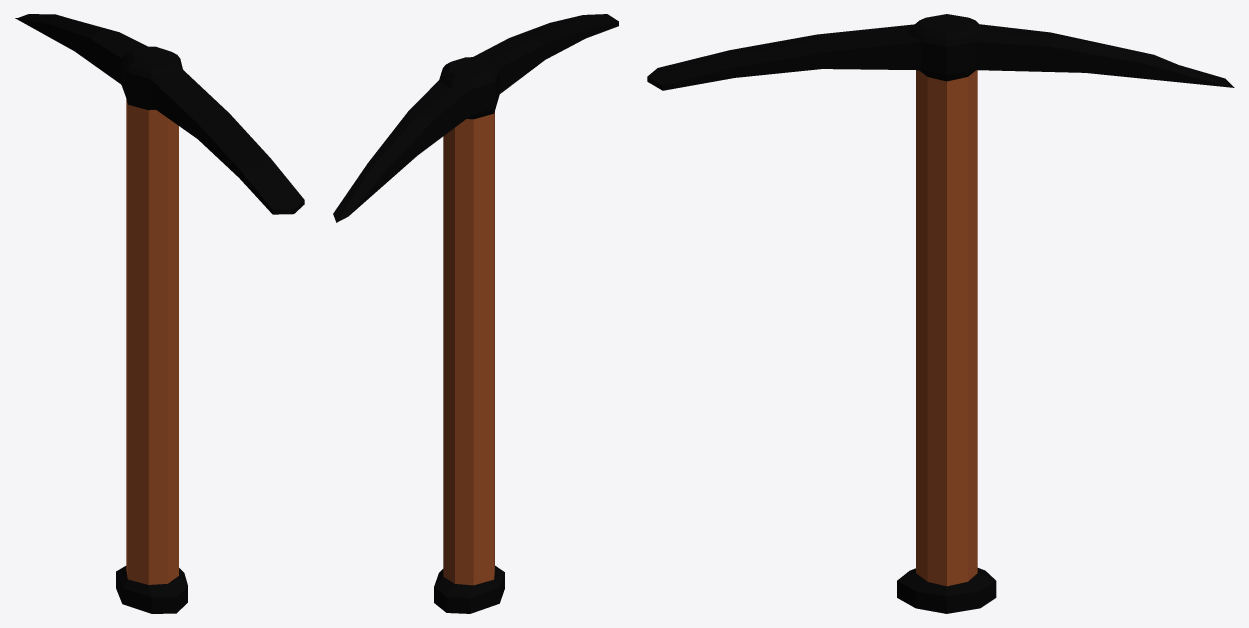
Rendered from pickaxe.fbx.
3 views of the same model, side by side, from view 1: azimuth 30°, elevation 25°; view 2: azimuth 150°, elevation 25°; view 3: azimuth 270°, elevation 25° (orthographic). The views are drawn at different scales.
Visible parts, largest first — view 1: Pickaxe; view 2: Pickaxe; view 3: Pickaxe.
Boxes of the visible parts, bbox=[...] form: Pickaxe: bbox=[15, 14, 304, 613]; Pickaxe: bbox=[333, 14, 618, 613]; Pickaxe: bbox=[647, 14, 1234, 613].
Size of the model in its own units: 6.81 by 56.72 by 52.57.
